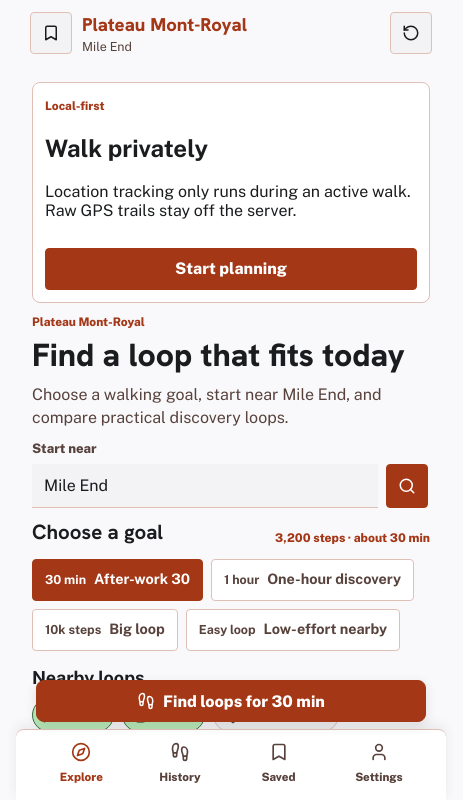
App › renders a no-route recovery state
The width and height of the screenshot is (463, 800).
What coordinates should you click on to do the following:
click the button "Find loops for 30 min"
I would click on:
 (231, 701)
Its box is [36, 680, 426, 722].
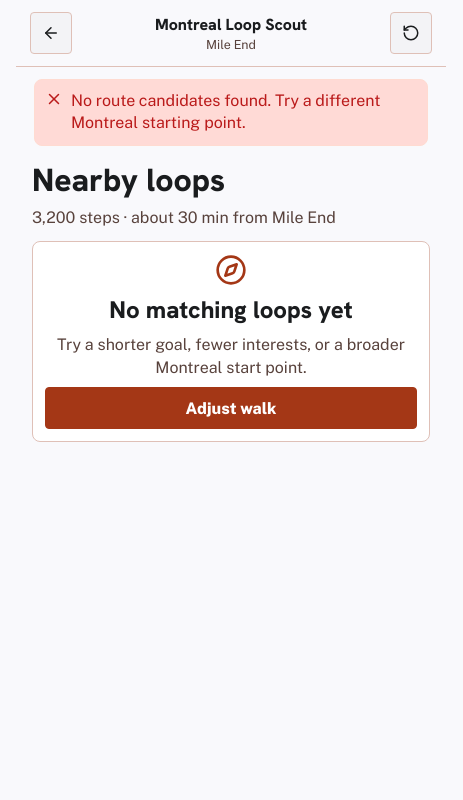
Now the heading "No matching loops yet" is shown, box [109, 294, 353, 325]
Now the text "Try a shorter goal" is shown, box [57, 335, 405, 377]
